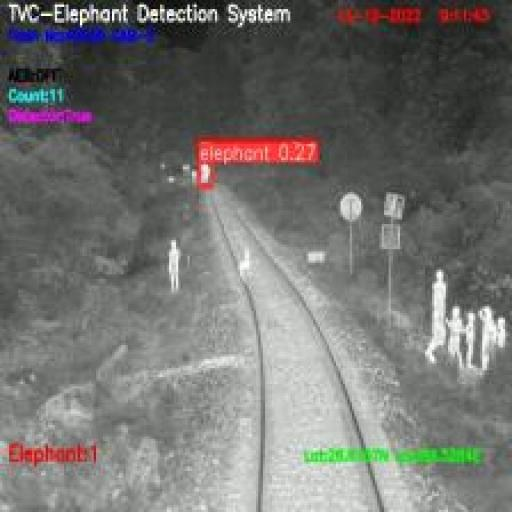Elephant: (199, 160, 211, 186)
